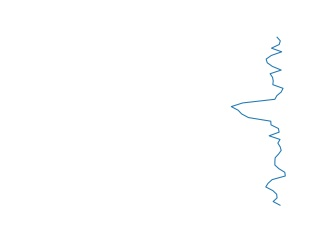interdistributaryEstuary: (227, 37, 288, 210)
